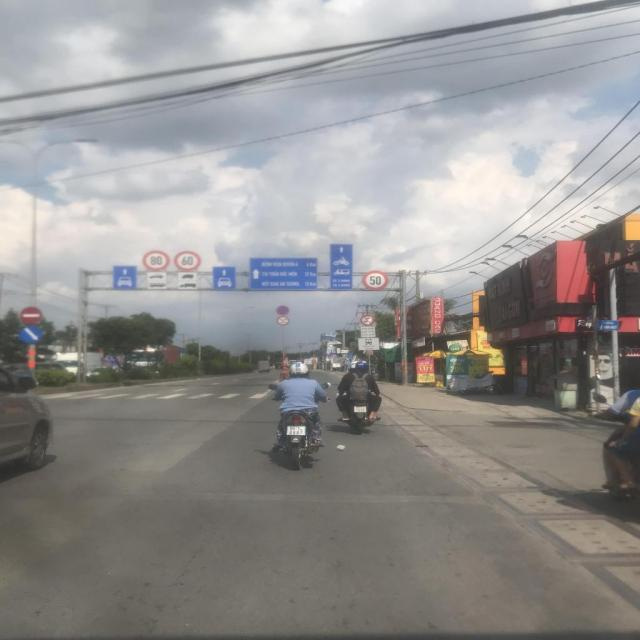cam_dung_xe_va_do_xe: (275, 305, 290, 315)
cam_o_to_tai_va_xe_khach: (359, 314, 374, 326)
cam_xe_2_banh_va_xe_3_banh_co_dong_co: (276, 316, 290, 326)
cam_xe_di_nguoc_chieu: (19, 306, 43, 324)
duong_cho_xe_o_to: (212, 266, 235, 291), (114, 266, 137, 290)
huong_phai_di_vuot_chuong_ngai_vat_phai: (19, 326, 43, 344)
khac: (249, 258, 317, 290), (330, 244, 352, 289), (358, 338, 379, 350), (147, 280, 167, 290), (177, 272, 198, 281), (147, 272, 167, 281), (178, 282, 199, 290), (361, 327, 376, 338)
toc_do_toi_da_50: (362, 270, 389, 290)
toc_do_toi_da_60: (173, 251, 202, 271)
toc_do_toi_da_80: (142, 250, 170, 272)
